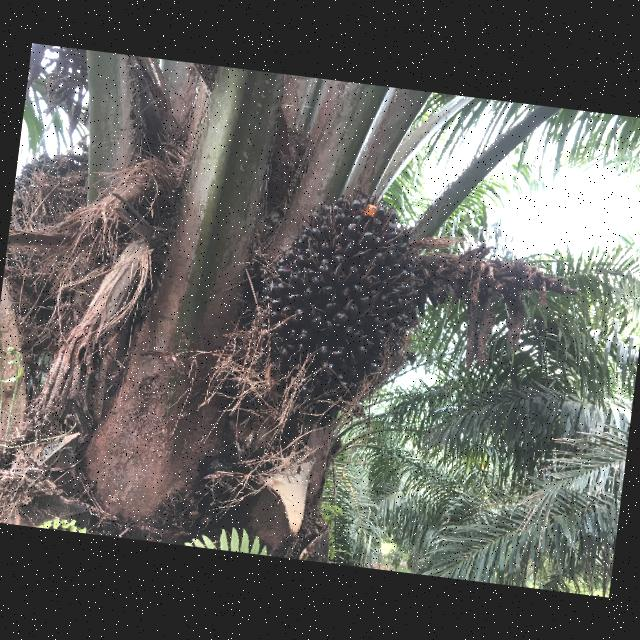Unripe: (256, 196, 410, 417)
